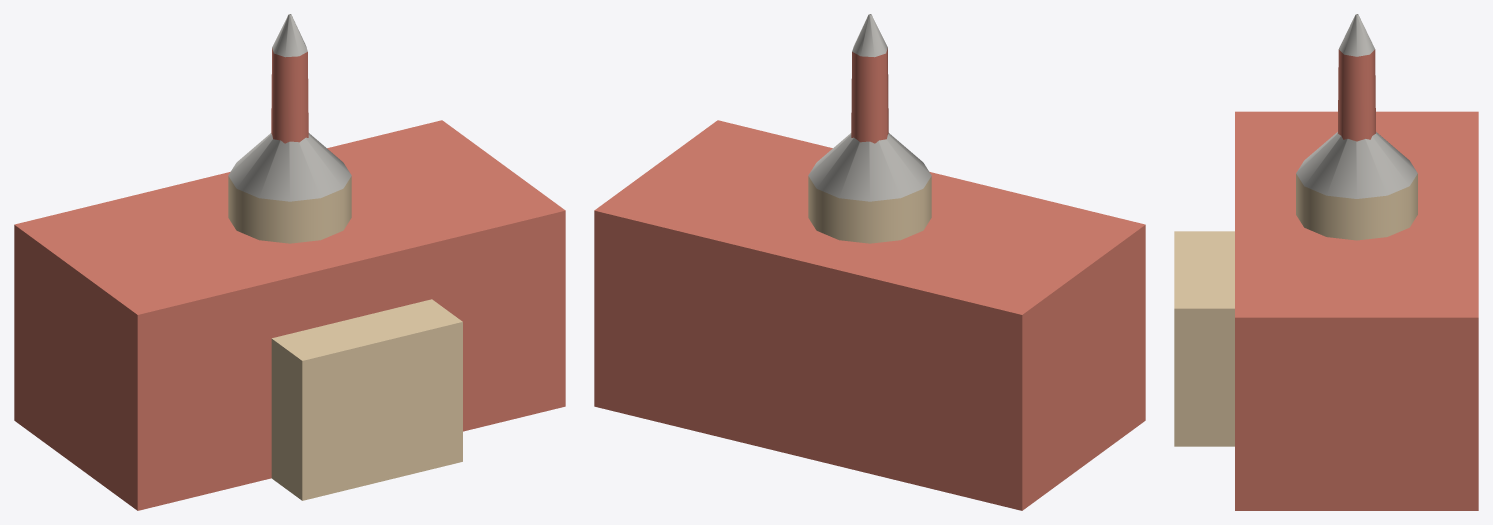
Rendered from madras_high_court.glb.
The picture shows the model from 3 angles, left to right: view 1: azimuth 30°, elevation 25°; view 2: azimuth 150°, elevation 25°; view 3: azimuth 270°, elevation 25°; orthographic projection.
Parts seen in each view (by area): view 1: MainHall_Node, ArchedPortico_Node, CentralDomeHemisphere_Node, CentralDomeDrum_Node, Minaret_0_Node, Minaret_Dome_0_Node; view 2: MainHall_Node, CentralDomeHemisphere_Node, CentralDomeDrum_Node, Minaret_0_Node, Minaret_Dome_0_Node; view 3: MainHall_Node, ArchedPortico_Node, CentralDomeHemisphere_Node, CentralDomeDrum_Node, Minaret_0_Node, Minaret_Dome_0_Node.
Boxes of the visible parts, x1,y1,x2,y2 form: MainHall_Node: (14, 120, 565, 510); ArchedPortico_Node: (271, 299, 462, 500); CentralDomeHemisphere_Node: (228, 133, 351, 201); CentralDomeDrum_Node: (228, 176, 351, 243); Minaret_0_Node: (271, 48, 308, 143); Minaret_Dome_0_Node: (272, 14, 307, 57); MainHall_Node: (594, 120, 1145, 510); CentralDomeHemisphere_Node: (808, 133, 931, 201); CentralDomeDrum_Node: (808, 176, 931, 243); Minaret_0_Node: (851, 48, 888, 143); Minaret_Dome_0_Node: (852, 14, 887, 57); MainHall_Node: (1235, 111, 1478, 510); ArchedPortico_Node: (1174, 231, 1234, 446); CentralDomeHemisphere_Node: (1296, 132, 1417, 198); CentralDomeDrum_Node: (1296, 173, 1417, 240); Minaret_0_Node: (1337, 49, 1375, 141); Minaret_Dome_0_Node: (1339, 14, 1374, 56).
Size of the model in its own units: 32 by 28.5 by 20.
